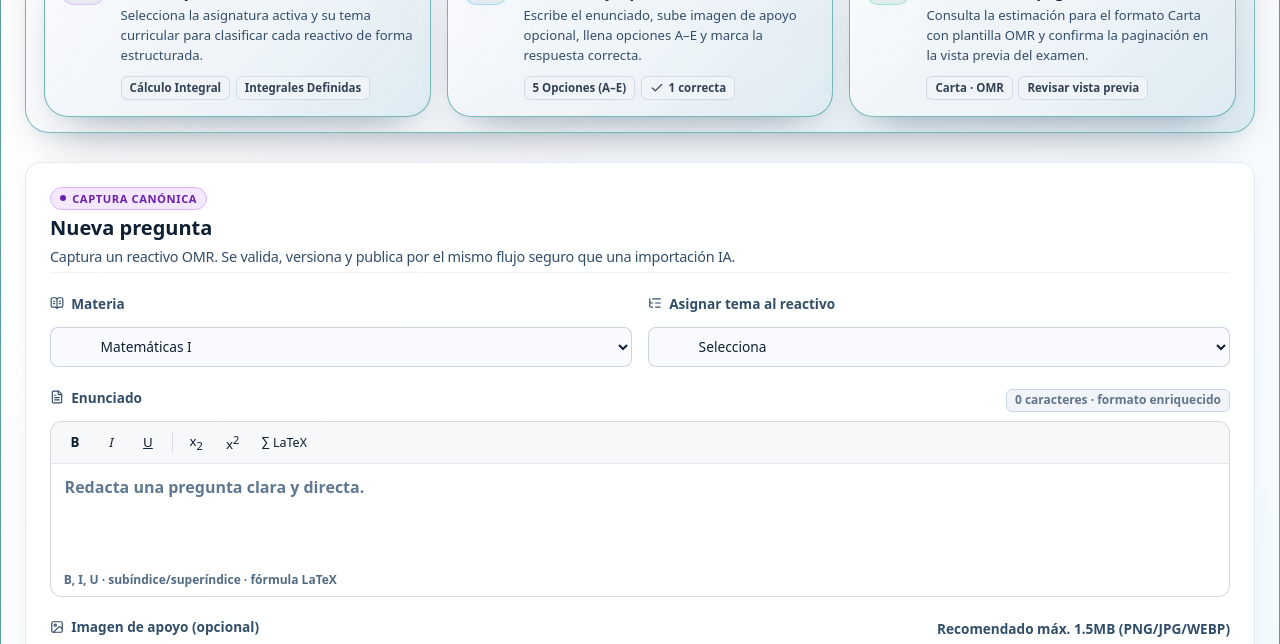
banco refactor comportamiento › distingue el fallo al cargar temas del estado sin temas en la captura
(page scrolled)
Select "Matemáticas I" in the dropdown labelled "Materia" at (341, 347), box left=50, top=327, right=632, bottom=367
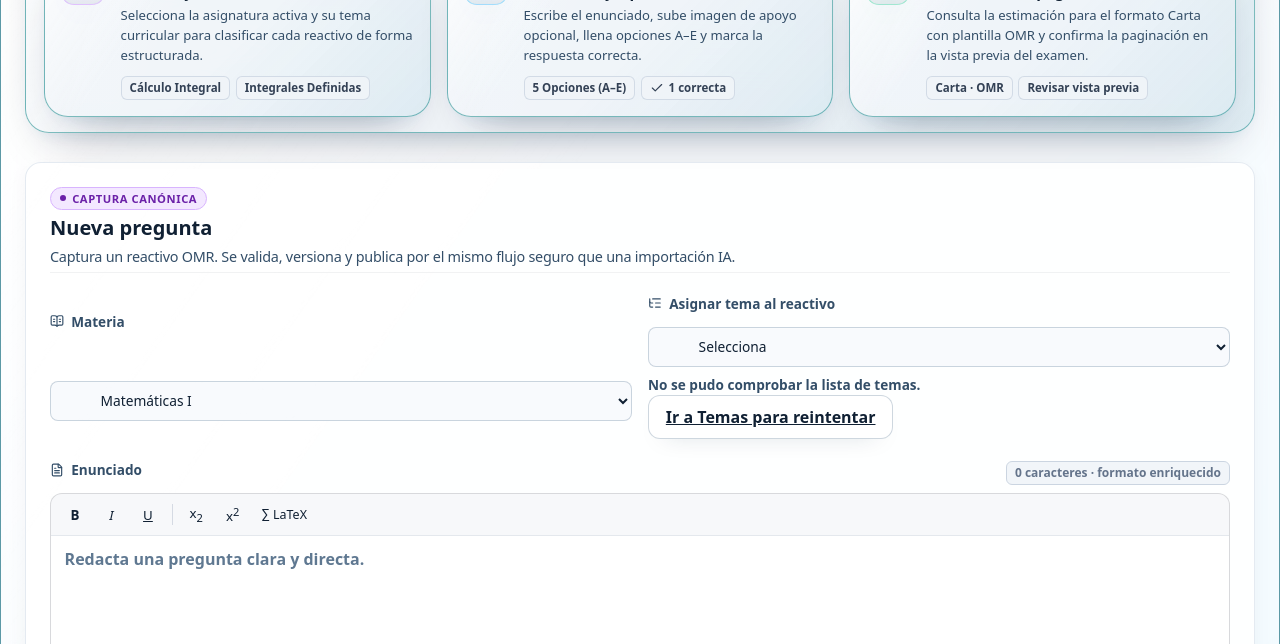
Check: the text "No se pudo comprobar la lista de temas." is shown, box left=648, top=375, right=920, bottom=394
